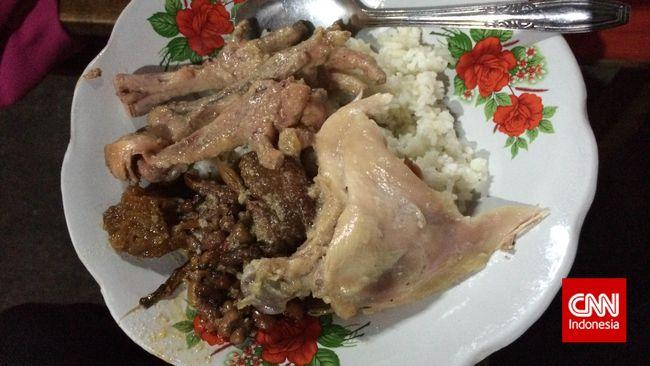gudeg: (104, 21, 549, 342)
